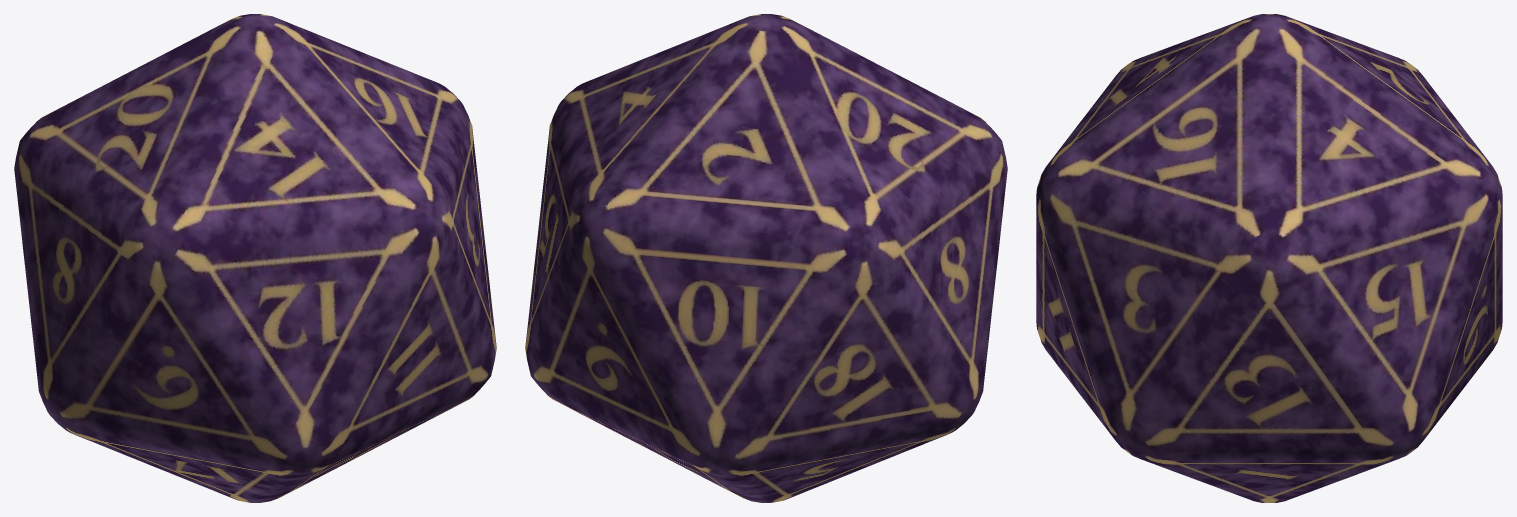
File: altmer-d20.glb
3 views of the same model, side by side, from view 1: azimuth 30°, elevation 25°; view 2: azimuth 150°, elevation 25°; view 3: azimuth 270°, elevation 25° (orthographic).
Parts seen in each view (by area): view 1: altmer_d20; view 2: altmer_d20; view 3: altmer_d20.
Part boxes in pixels (x1,y1,x2,y2): altmer_d20: (14, 14, 496, 502); altmer_d20: (525, 14, 1007, 502); altmer_d20: (1036, 14, 1502, 502).
Size of the model in its own units: 1.74 by 1.9 by 1.67.
1 material, 1 textured.
